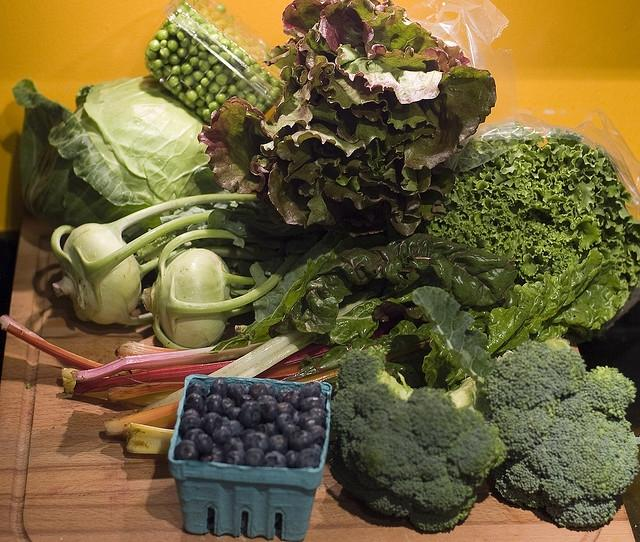blueberry: (256, 394, 280, 424), (240, 400, 264, 425), (173, 439, 200, 460), (289, 430, 314, 452), (244, 432, 270, 453), (223, 437, 246, 460), (202, 412, 222, 438), (295, 448, 321, 468), (268, 434, 290, 456), (183, 393, 206, 413), (194, 433, 213, 457), (283, 389, 305, 409), (300, 396, 326, 412), (243, 448, 264, 467), (307, 425, 326, 446), (212, 425, 231, 446), (275, 412, 293, 434), (181, 415, 203, 433), (263, 452, 287, 468), (206, 394, 224, 415), (210, 377, 228, 398), (226, 382, 247, 399), (226, 449, 247, 466), (300, 382, 322, 398), (282, 423, 302, 440), (186, 382, 208, 397), (184, 428, 206, 442), (260, 420, 277, 438), (249, 382, 268, 398), (234, 394, 255, 408), (284, 450, 300, 468), (274, 387, 292, 403), (310, 406, 326, 423), (227, 406, 241, 421), (278, 402, 294, 415), (292, 409, 302, 426), (264, 383, 275, 398), (242, 516, 248, 532), (243, 384, 250, 391), (240, 422, 244, 432)
broccoli: (328, 344, 507, 531), (481, 340, 638, 531)
pea: (144, 47, 160, 60), (180, 62, 193, 76), (215, 73, 228, 86), (167, 23, 180, 36), (270, 87, 282, 101), (148, 38, 160, 52), (166, 39, 178, 53), (192, 70, 205, 82), (170, 82, 182, 95), (250, 75, 262, 87), (168, 53, 180, 65), (190, 56, 202, 68), (200, 60, 212, 72), (244, 94, 256, 106), (198, 40, 210, 52), (212, 63, 225, 74), (160, 46, 170, 60), (227, 84, 238, 96), (186, 90, 198, 101), (168, 76, 180, 87), (208, 34, 220, 45), (156, 30, 169, 40), (216, 93, 227, 104), (216, 3, 227, 14), (260, 83, 270, 95), (220, 38, 232, 48), (205, 92, 215, 104), (198, 50, 210, 60), (244, 68, 255, 78), (229, 54, 240, 64), (261, 69, 271, 80), (180, 38, 191, 48), (196, 31, 208, 40), (241, 56, 251, 66), (152, 59, 163, 68), (163, 66, 172, 76), (256, 94, 266, 103), (276, 81, 286, 90), (200, 78, 210, 87), (178, 4, 188, 13), (254, 104, 265, 112), (210, 45, 220, 53), (228, 45, 238, 53), (176, 14, 186, 22), (196, 99, 204, 108), (228, 76, 237, 84), (178, 92, 186, 100), (200, 24, 208, 32), (242, 88, 250, 96), (178, 58, 186, 66), (179, 18, 186, 25), (190, 15, 197, 22), (186, 32, 192, 40), (250, 59, 256, 66), (204, 102, 208, 108)
